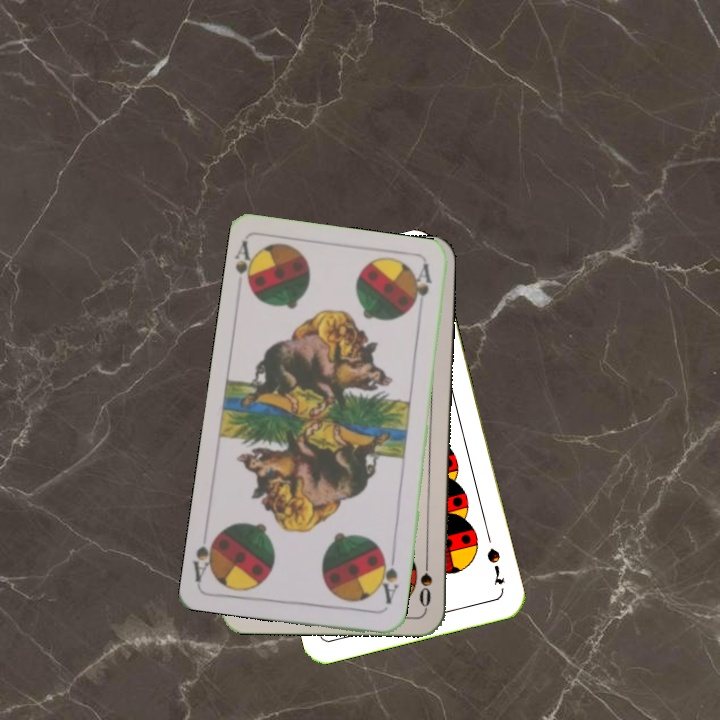S7: (482, 544, 507, 588)
SA: (231, 237, 261, 297), (373, 550, 402, 607)
SO: (415, 551, 435, 610)
